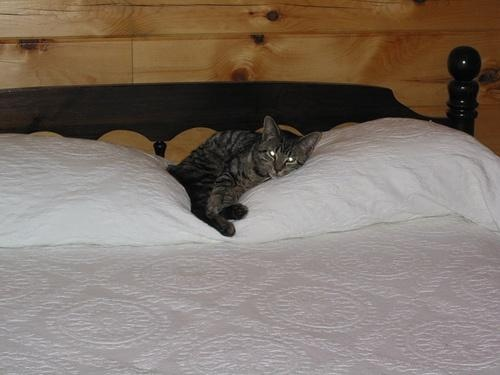cat: (167, 116, 323, 238)
